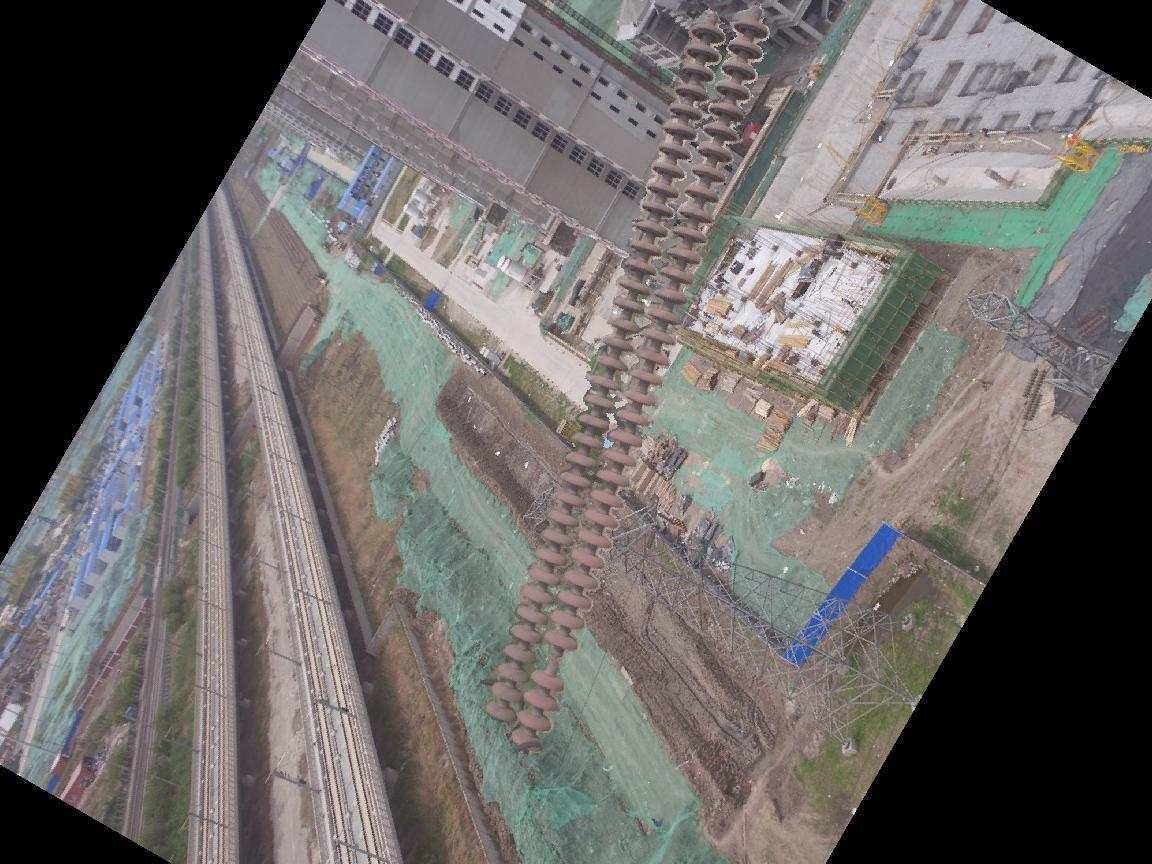insulator: (477, 12, 772, 756)
insulator_stringdrop: (528, 626, 583, 695)
